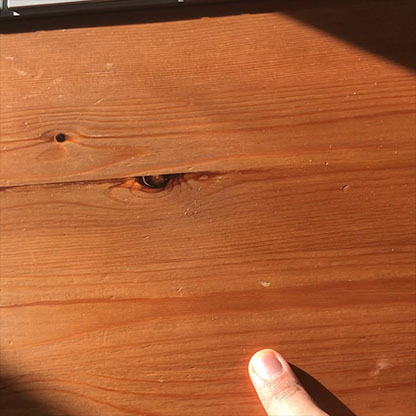fingertip: (241, 343, 295, 389)
